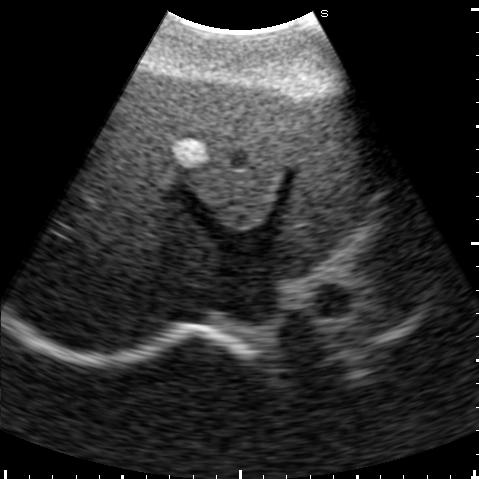S2: (269, 99, 374, 279)
S4: (112, 73, 298, 229)
S7: (38, 241, 167, 345)
S8: (78, 138, 208, 269)
Tumor: (172, 138, 207, 167)
